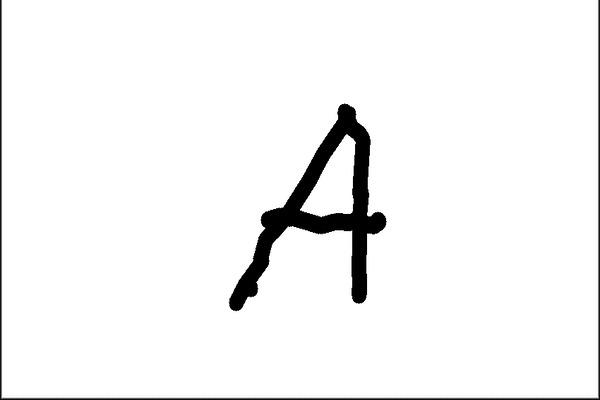A: (217, 96, 384, 316)
